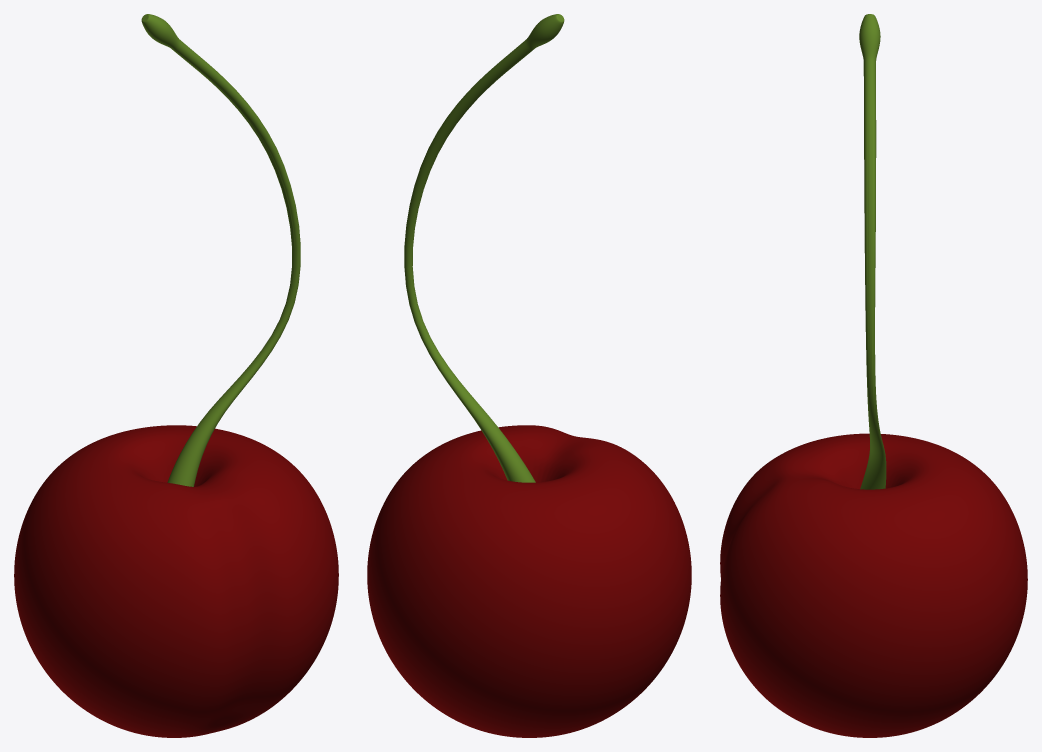
Rendered from cherry.glb.
The picture shows the model from 3 angles, left to right: view 1: azimuth 30°, elevation 25°; view 2: azimuth 150°, elevation 25°; view 3: azimuth 270°, elevation 25°; orthographic projection. The views are drawn at different scales.
Parts seen in each view (by area): view 1: 球, 円柱; view 2: 球, 円柱; view 3: 球, 円柱.
Boxes of the visible parts, box(x1,y1,x2,y2) form: 球: box(14, 425, 338, 737); 円柱: box(141, 14, 300, 486); 球: box(367, 425, 691, 737); 円柱: box(404, 14, 564, 482); 球: box(720, 433, 1027, 737); 円柱: box(859, 14, 886, 489).
Size of the model in its own units: 1.97 by 4.74 by 1.92.
